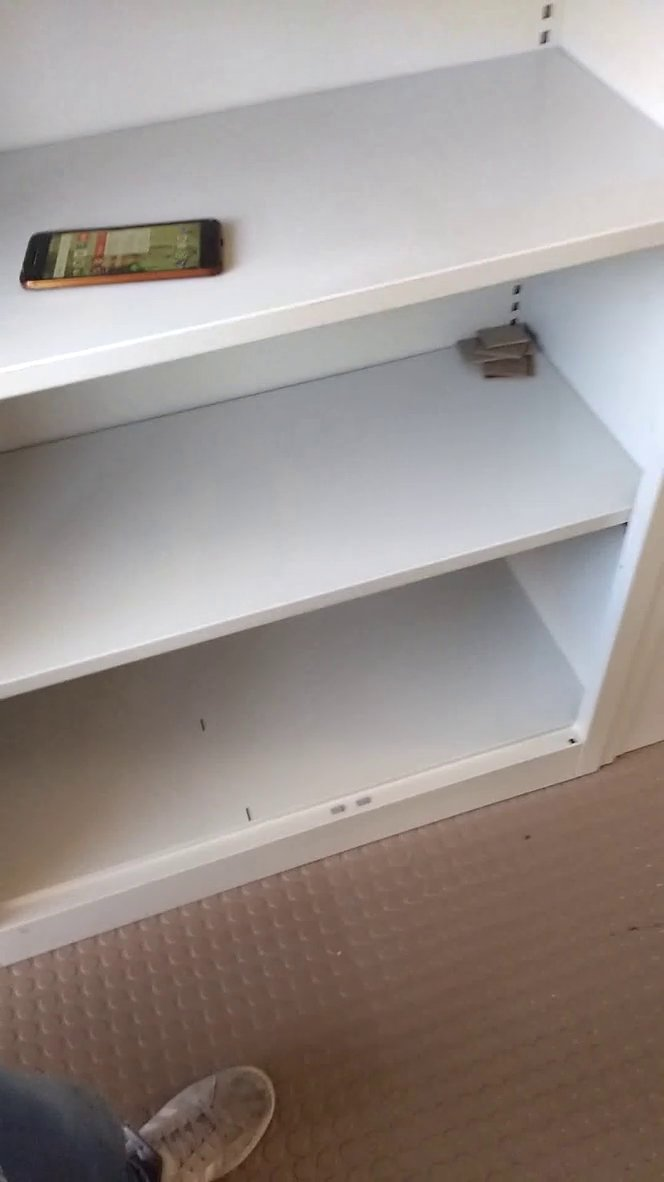phone: (9, 209, 243, 318)
